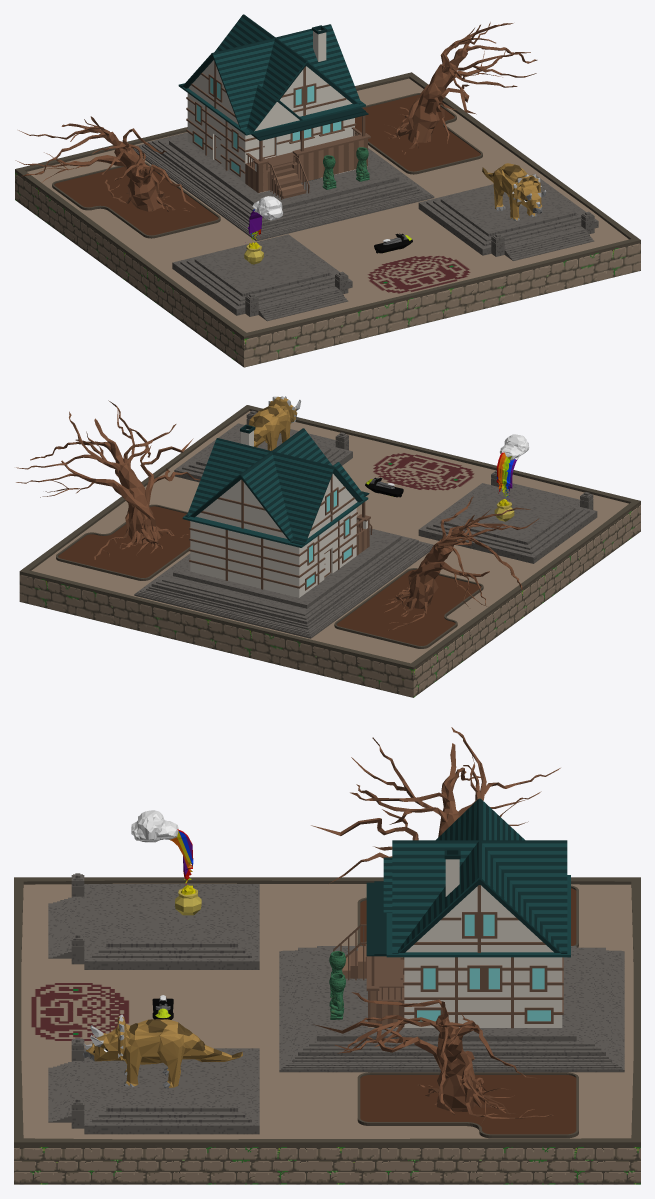
3 views of the same model, one above another, from view 1: azimuth 30°, elevation 25°; view 2: azimuth 150°, elevation 25°; view 3: azimuth 270°, elevation 25° (orthographic). The views are drawn at different scales.
Parts seen in each view (by area): view 1: Cube.011, Cube.793, ANIMAL_Triceratops, OBJRANDOM_RAINBOW; view 2: Cube.011, Cube.793, ANIMAL_Triceratops, OBJRANDOM_RAINBOW, VEHICLES_WATERBIKE; view 3: Cube.011, Cube.793, ANIMAL_Triceratops, OBJRANDOM_RAINBOW.
Boxes of the visible parts, bbox=[...] form: Cube.011: bbox=[15, 22, 640, 367]; Cube.793: bbox=[178, 14, 370, 199]; ANIMAL_Triceratops: bbox=[482, 163, 546, 220]; OBJRANDOM_RAINBOW: bbox=[244, 196, 283, 264]; Cube.011: bbox=[16, 400, 640, 697]; Cube.793: bbox=[182, 424, 372, 597]; ANIMAL_Triceratops: bbox=[248, 396, 301, 450]; OBJRANDOM_RAINBOW: bbox=[494, 434, 529, 521]; VEHICLES_WATERBIKE: bbox=[365, 477, 403, 497]; Cube.011: bbox=[14, 727, 640, 1184]; Cube.793: bbox=[333, 798, 570, 1028]; ANIMAL_Triceratops: bbox=[83, 1014, 242, 1088]; OBJRANDOM_RAINBOW: bbox=[131, 810, 201, 915].
Bounding box in the file's own units: 5099 × 1663 × 4000.
Materials: 30 (6 with a texture image).
